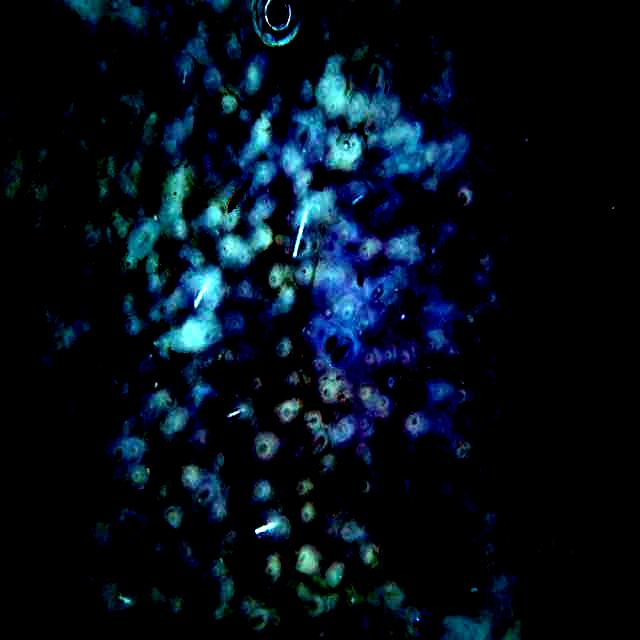AKIEC: (1, 3, 598, 637)
